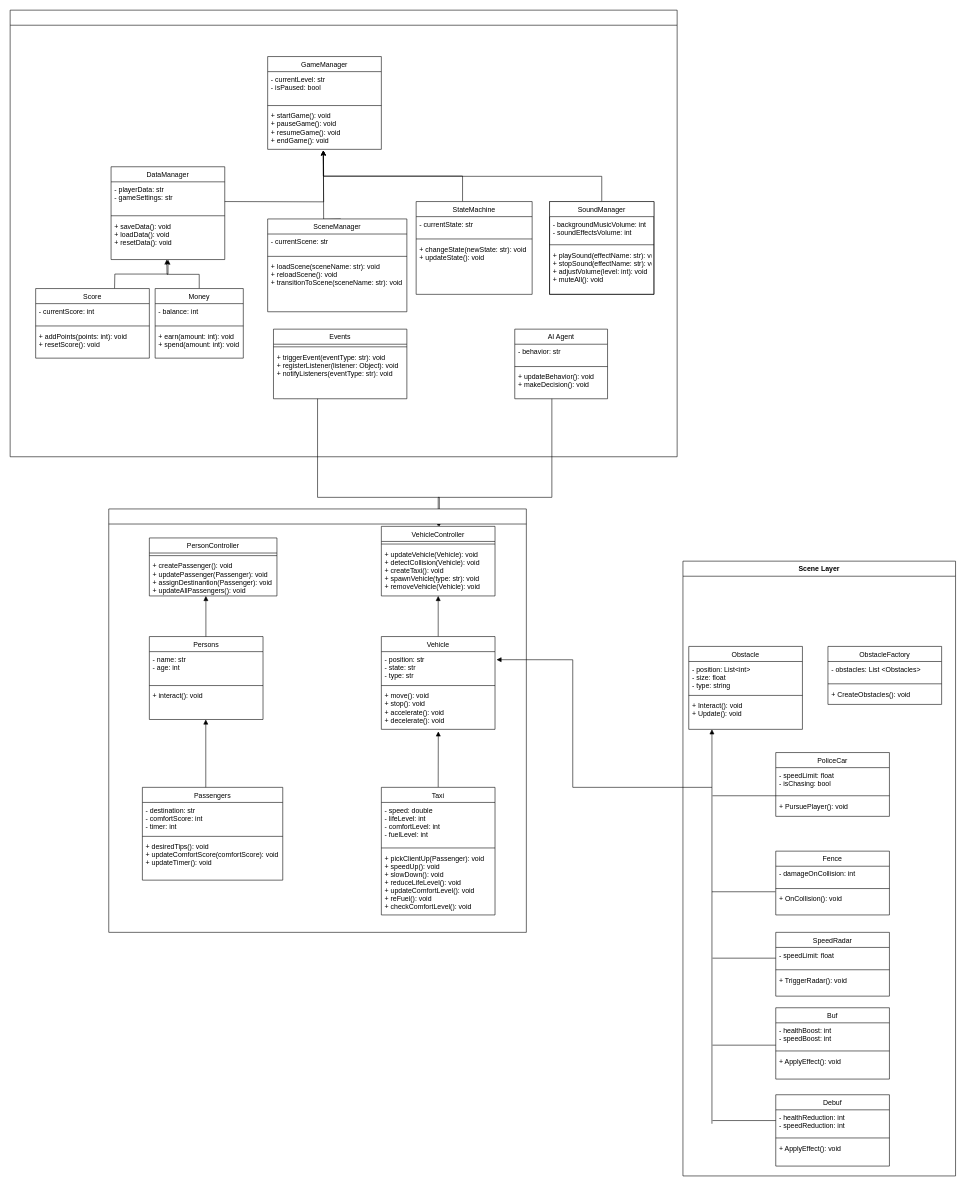
The diagram is 966 pixels wide and 1186 high, and some of its shapes have lost their labels. The shapes that lost their labels are listed below. From the top down, each one's centre as x and y in pixels, then its label:
(x=343, y=233): ManagerLayer
(x=317, y=720): Agent Layer
